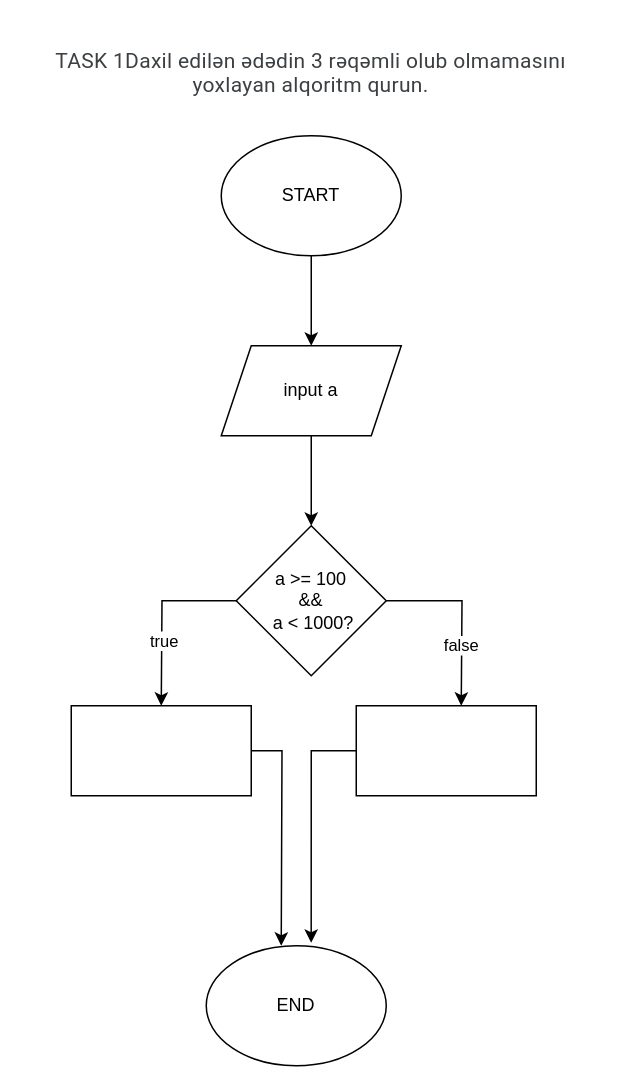
This 621x1092 diagram has some shape labels left out. The centre of each missing label's shape, as x and y in pixels:
"Rəqəm üçrəqəmli təşkil edir" belongs at point 160,750.
"Rəqəm üçrəqəmli təşkil etmir" belongs at point 445,750.
